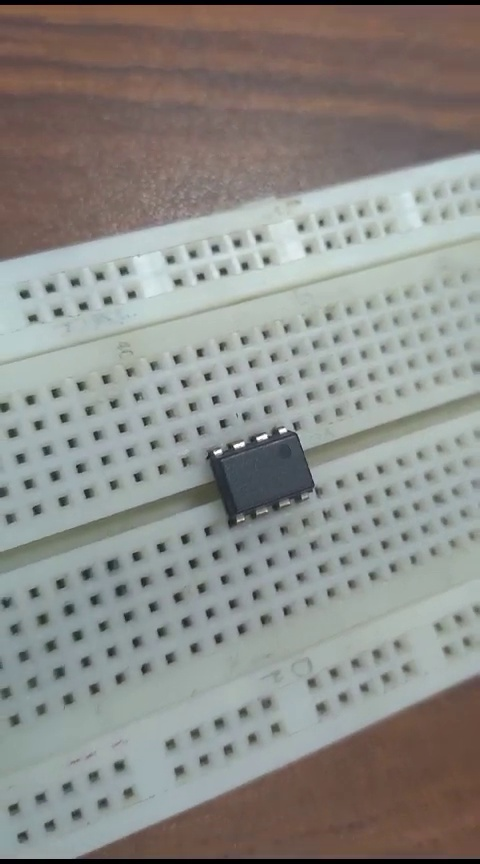IC: (211, 424, 319, 524)
